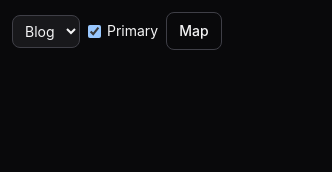
Test case: gap closure: json parse failures and busy guards › MapPropertyForm: a double submit only maps once (busy guard)
Click the button "Map".
click(194, 31)  # box [166,12,222,50]
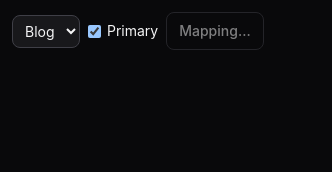
Submit the form named "Website for 123", box [11,12,264,52]
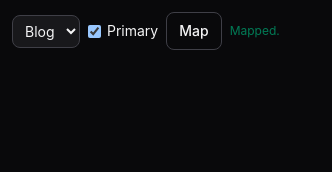
Check: the text "Mapped." is shown, box [230,23,280,39]
